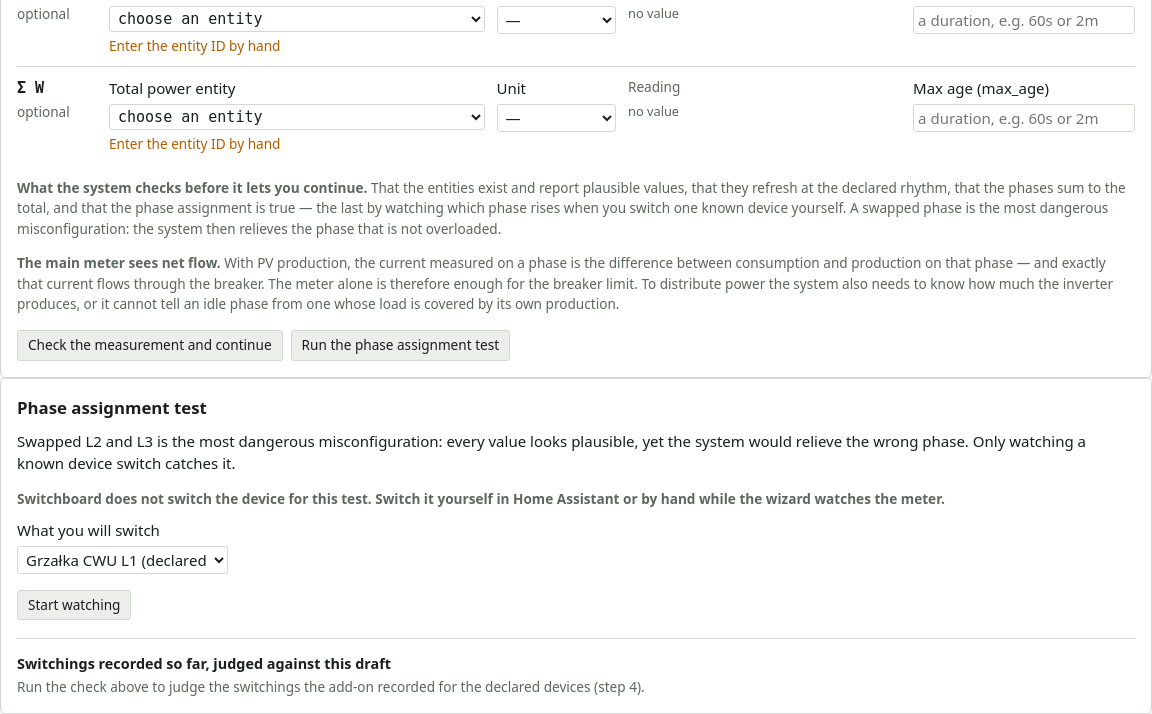
Test: phase assignment test › watching a declared device posts the draft and its index; nothing else is sent
This screenshot has width=1152, height=714.
(page scrolled)
Select "Grzałka CWU L2 (declared on L2)" in the dropdown labelled "What you will switch" at (122, 560), box x1=17 y1=546 x2=228 y2=574
(page scrolled)
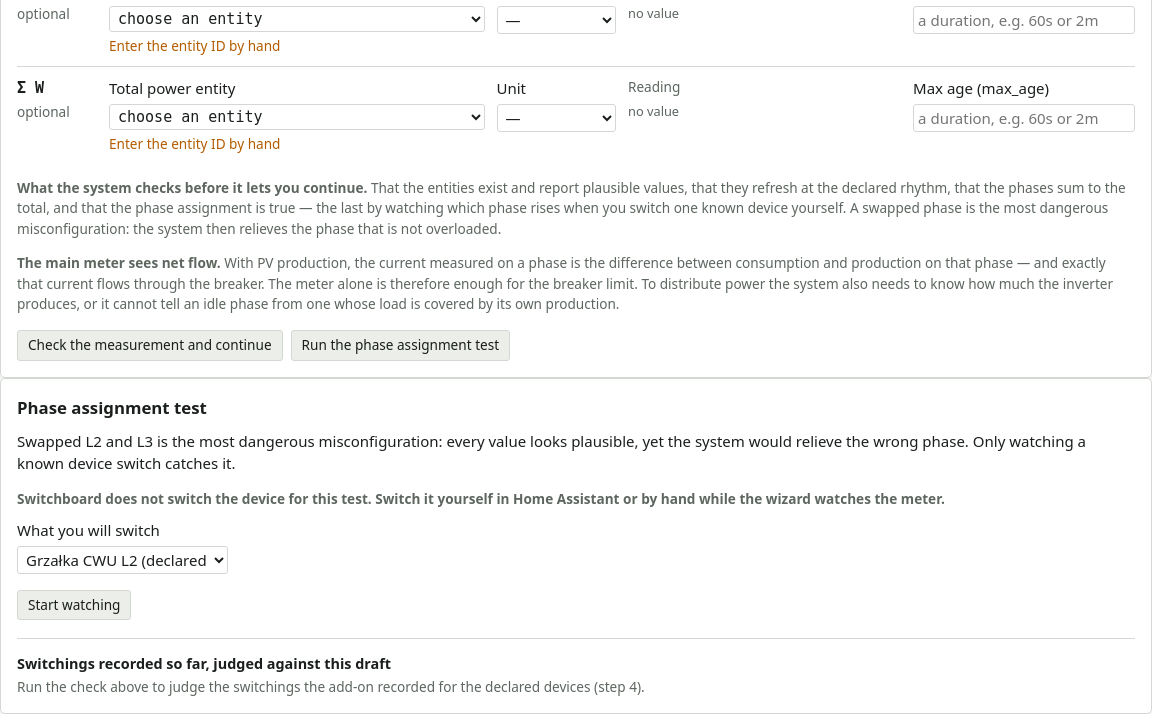
Click the button "Start watching" at (74, 605), box x1=17 y1=590 x2=132 y2=620
(page scrolled)
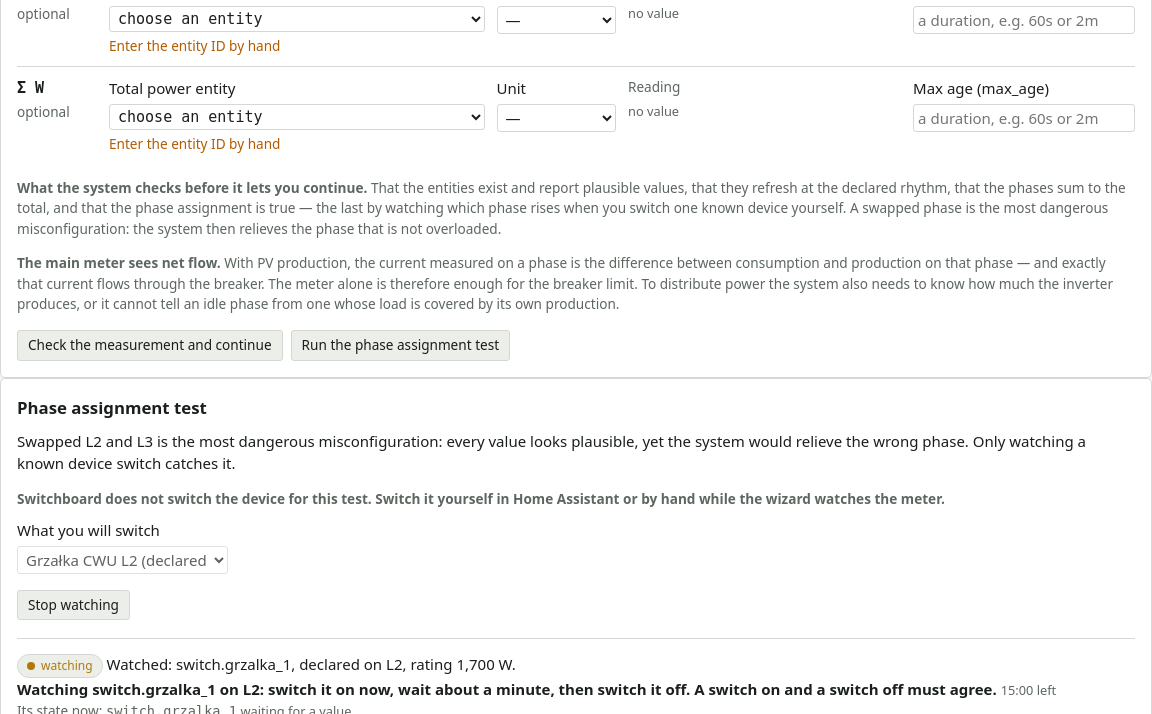
Now the element that starts with "watching" shows "Watching switch.grzalka_1 on L2: switch it on now, wait about a minute, then switch it off.", box x1=17 y1=679 x2=997 y2=699
Now the button "Stop watching" is shown, box x1=17 y1=590 x2=130 y2=620
